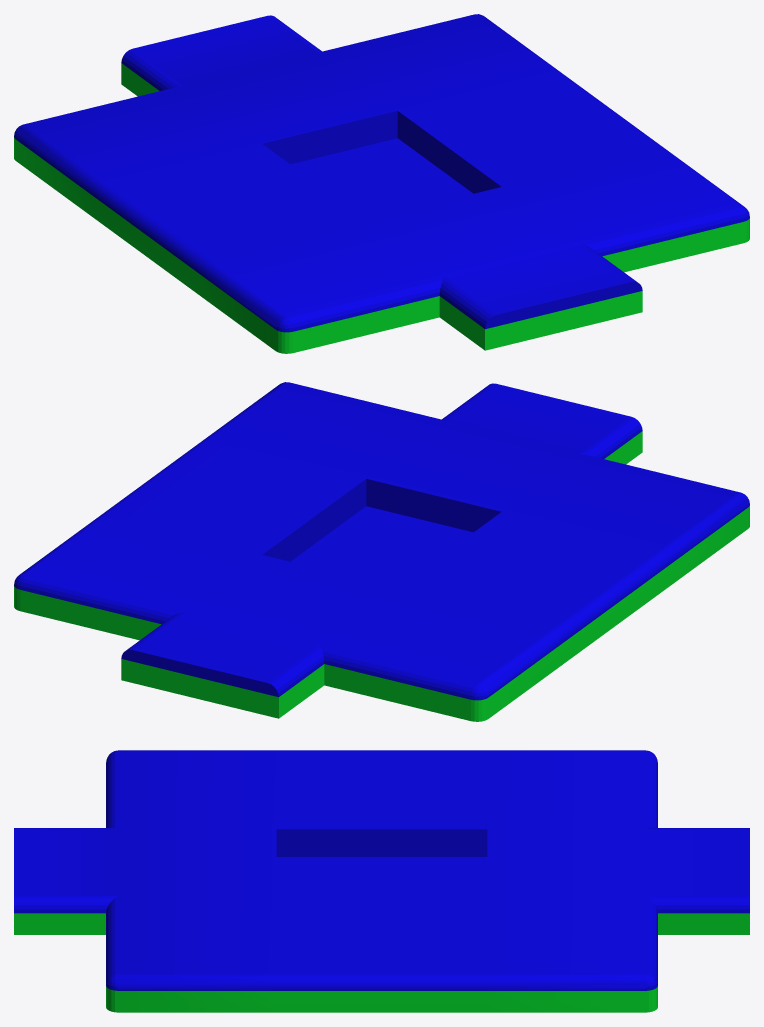
The picture shows the model from 3 angles, top to bottom: view 1: azimuth 30°, elevation 25°; view 2: azimuth 150°, elevation 25°; view 3: azimuth 270°, elevation 25°; orthographic projection.
Parts seen in each view (by area): view 1: plank18; view 2: plank18; view 3: plank18.
Part boxes in pixels (left/top/right/bottom): plank18: left=14, top=14, right=749, bottom=353; plank18: left=14, top=382, right=749, bottom=721; plank18: left=14, top=750, right=749, bottom=1012.
Bounding box in the file's own units: 1500 × 100 × 2000.
